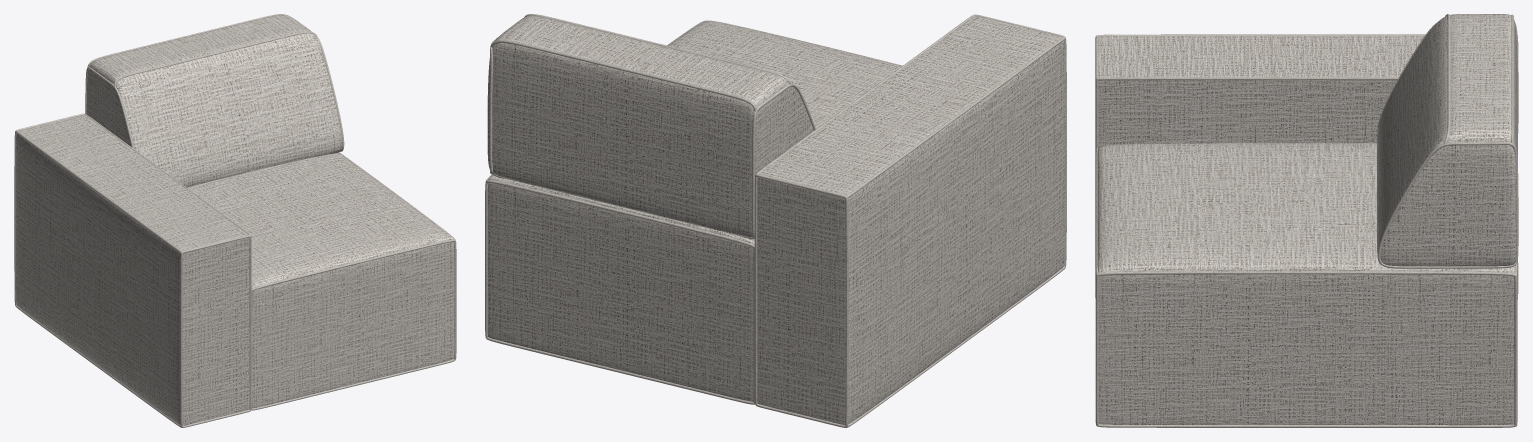
File: right_1_5_seater_arm_105_alpine_gray.glb
3 renders of one model, left to right at view 1: azimuth 30°, elevation 25°; view 2: azimuth 150°, elevation 25°; view 3: azimuth 270°, elevation 25°, orthographic. The views are drawn at different scales.
Visible parts, largest first — view 1: Box088, Box093, Box097, Shape048, Shape043, Shape039; view 2: Box088, Box093, Box097, Shape048, Shape039, Shape043; view 3: Box093, Box088, Box097, Shape043, Shape039, Shape048.
Boxes of the visible parts, left/top/right/bottom form: Box088: left=15, top=115, right=249, bottom=425; Box093: left=187, top=152, right=454, bottom=408; Box097: left=86, top=14, right=342, bottom=187; Shape048: left=14, top=113, right=251, bottom=427; Shape043: left=251, top=232, right=456, bottom=410; Shape039: left=85, top=14, right=344, bottom=151; Box088: left=757, top=16, right=1065, bottom=424; Box093: left=487, top=20, right=902, bottom=401; Box097: left=487, top=15, right=813, bottom=237; Shape048: left=754, top=14, right=1066, bottom=427; Shape039: left=489, top=14, right=815, bottom=239; Shape043: left=485, top=174, right=754, bottom=404; Box093: left=1096, top=143, right=1515, bottom=425; Box088: left=1098, top=36, right=1424, bottom=146; Box097: left=1377, top=14, right=1517, bottom=266; Shape043: left=1095, top=147, right=1517, bottom=427; Shape039: left=1377, top=14, right=1518, bottom=268; Shape048: left=1095, top=34, right=1518, bottom=299.
Bounding box in the file's own units: 1.03 × 0.8369 × 1.07.
Materials: 2 (1 with a texture image).
